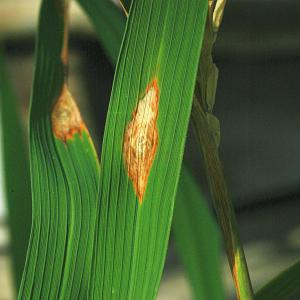Rice_Blast: (117, 59, 165, 224), (43, 73, 89, 144)
